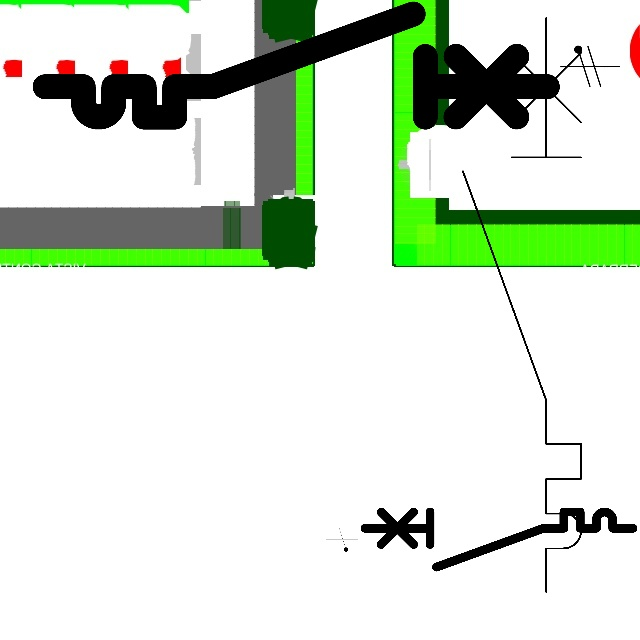interruptor_termomagnetico: (448, 3, 596, 607), (32, 1, 560, 130), (357, 505, 639, 574)
